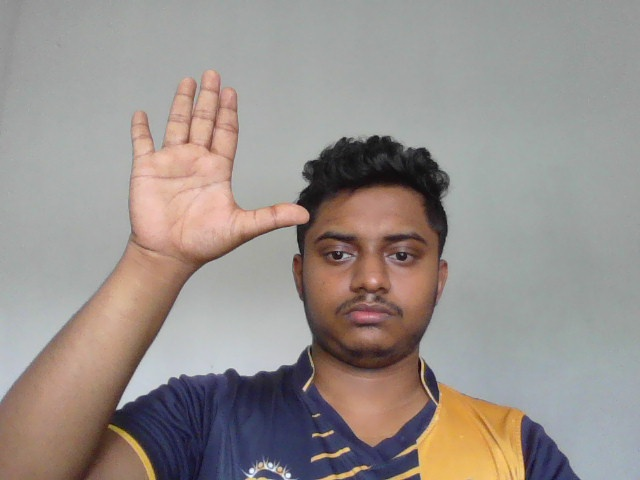Hello: (129, 67, 309, 259)
